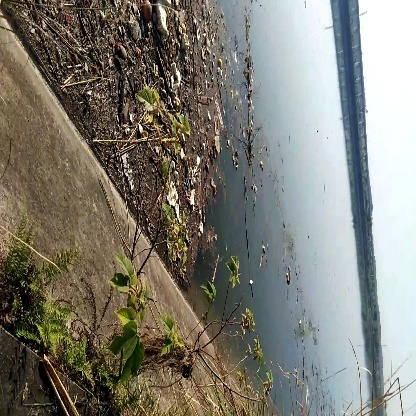plastic-garbage: (155, 4, 171, 37)
